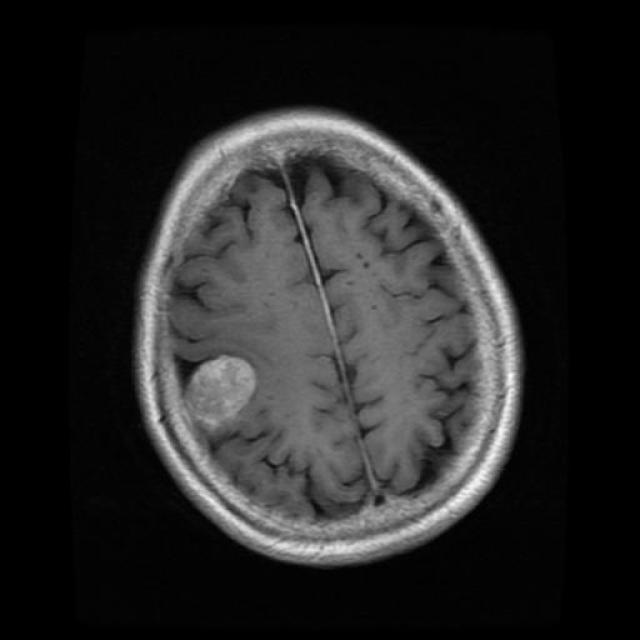meningioma: (172, 334, 261, 452)
